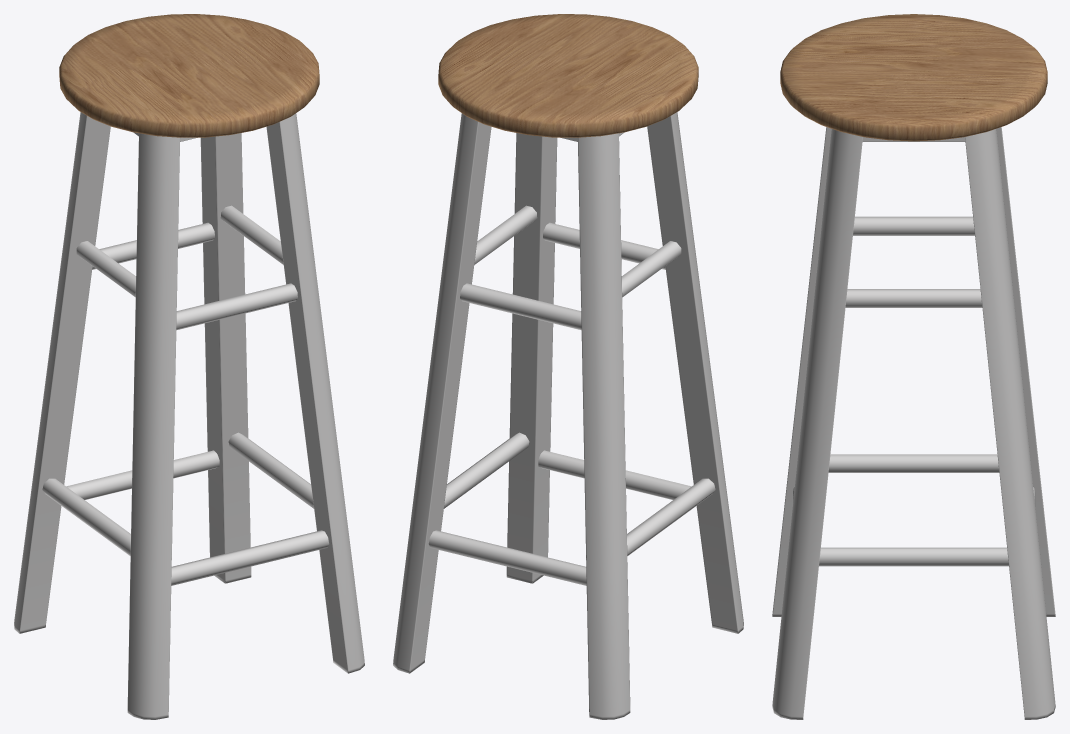
The model's file is uploads_files_2999771_Bar+stool.fbx.
3 renders of one model, left to right at view 1: azimuth 30°, elevation 25°; view 2: azimuth 150°, elevation 25°; view 3: azimuth 270°, elevation 25°, orthographic. The views are drawn at different scales.
Parts seen in each view (by area): view 1: Cube.004; view 2: Cube.004; view 3: Cube.004.
Boxes of the visible parts, bbox=[...] form: Cube.004: bbox=[14, 14, 364, 719]; Cube.004: bbox=[393, 14, 743, 719]; Cube.004: bbox=[772, 14, 1055, 719].
Size of the model in its own units: 29.4 by 70.19 by 30.33.
